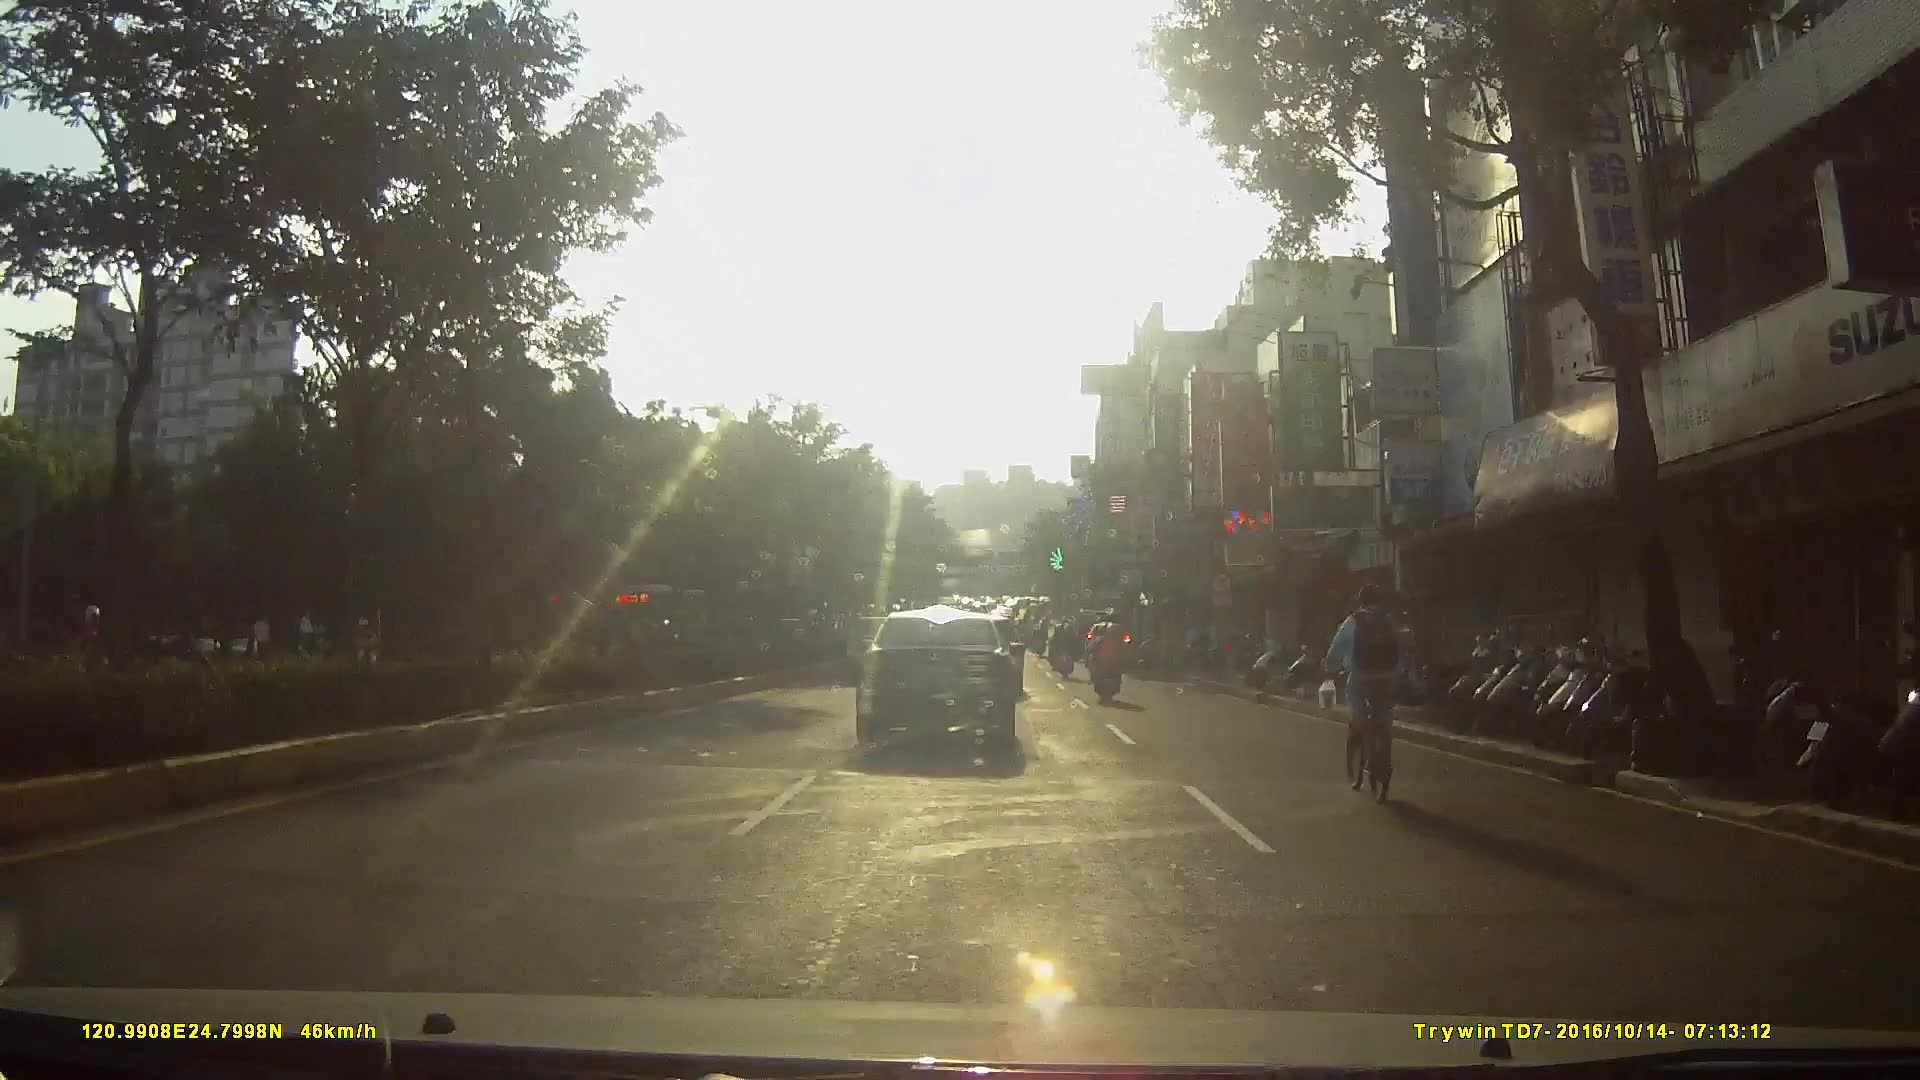rider: (1322, 578, 1409, 800), (1087, 624, 1123, 710), (1048, 620, 1076, 678)
vehicle: (852, 602, 1033, 767)
